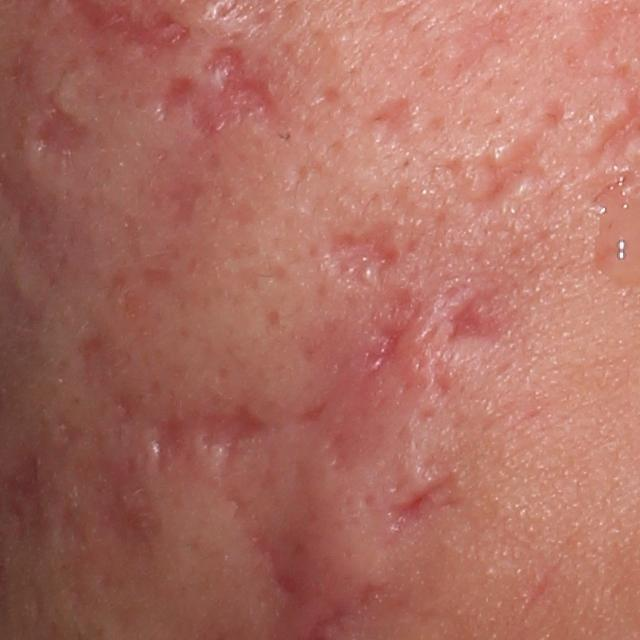atrophic_scar: (48, 427, 172, 574), (152, 37, 285, 143), (449, 99, 569, 212), (417, 3, 532, 94), (9, 42, 95, 161), (227, 493, 306, 611), (149, 402, 271, 470), (356, 289, 426, 386), (383, 470, 462, 548), (323, 219, 401, 279), (445, 287, 503, 346), (366, 95, 408, 152), (428, 347, 465, 407)
hypertrophic_scar: (186, 425, 232, 485), (356, 257, 382, 289), (491, 140, 516, 169)
